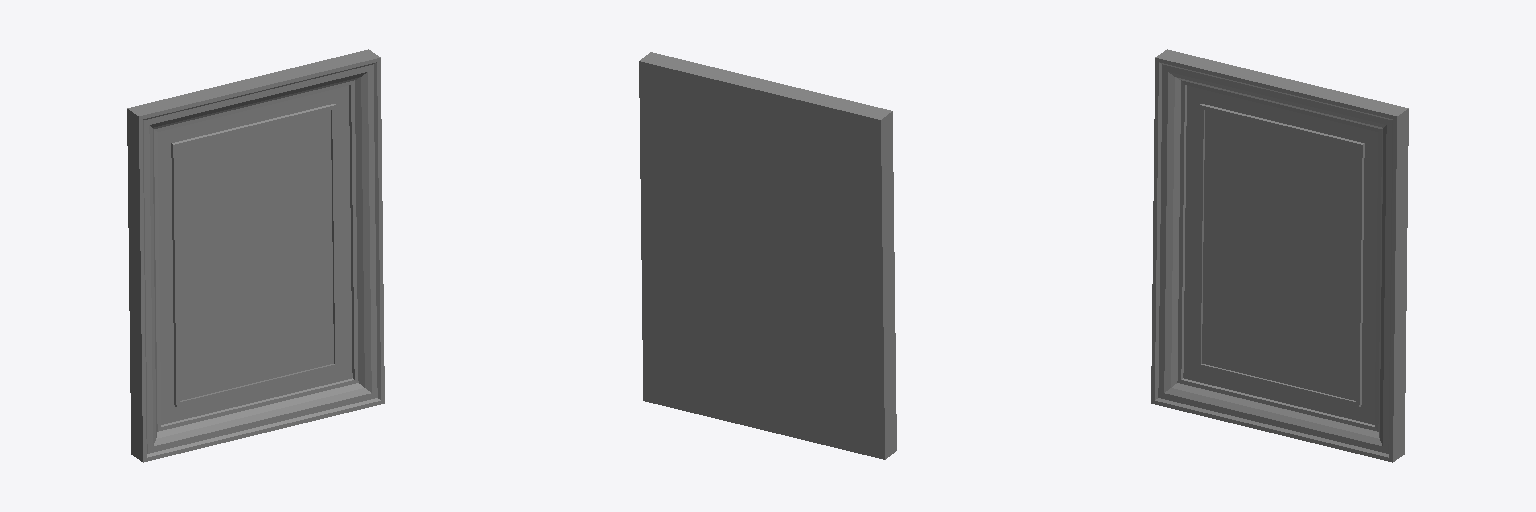
File: cuadroWario.obj
The picture shows the model from 3 angles: view 1: azimuth 30°, elevation 25°; view 2: azimuth 150°, elevation 25°; view 3: azimuth 330°, elevation 25°; orthographic projection.
Parts seen in each view (by area): view 1: Marco, Imagen; view 2: Marco; view 3: Marco, Imagen.
Boxes of the visible parts, x1,y1,x2,y2 form: Marco: [127, 49, 384, 462]; Imagen: [177, 110, 333, 400]; Marco: [639, 52, 896, 459]; Marco: [1151, 49, 1408, 462]; Imagen: [1202, 110, 1358, 400].
Bounding box in the file's own units: 6.88 × 9.34 × 0.79.